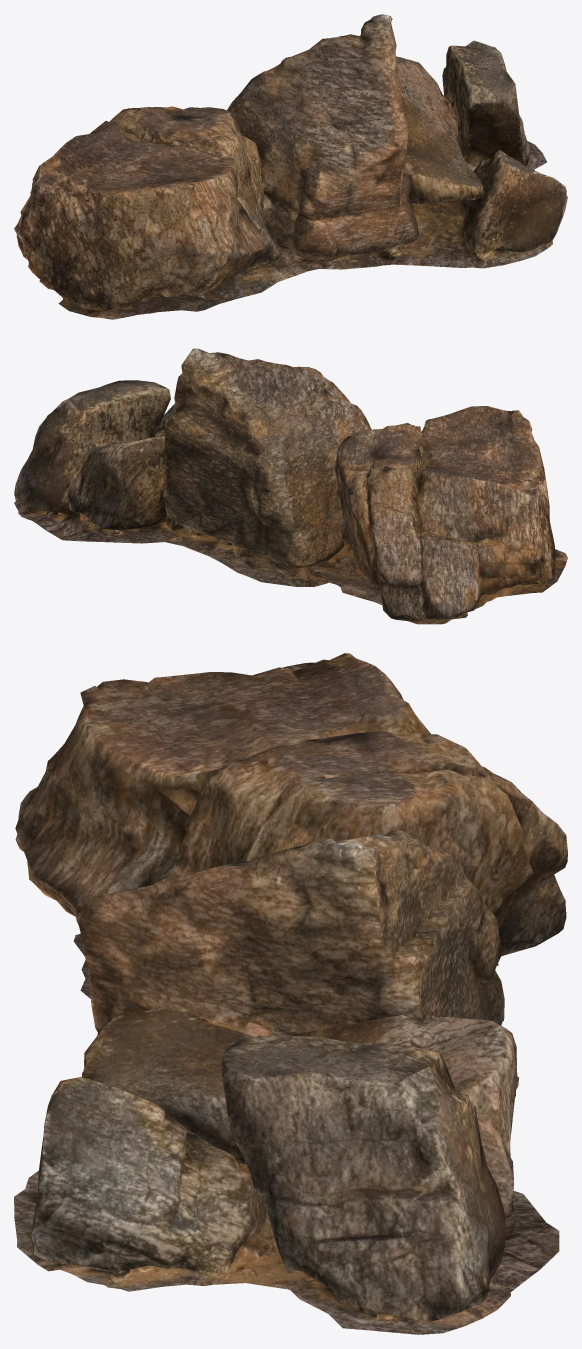
File: namaqualand_boulder_02.glb
3 views of the same model, one above another, from view 1: azimuth 30°, elevation 25°; view 2: azimuth 150°, elevation 25°; view 3: azimuth 270°, elevation 25° (orthographic). The views are drawn at different scales.
Parts seen in each view (by area): view 1: boulder_02; view 2: boulder_02; view 3: boulder_02.
Part boxes in pixels (left/top/right/bottom): boulder_02: left=14, top=14, right=567, bottom=319; boulder_02: left=14, top=348, right=567, bottom=624; boulder_02: left=14, top=653, right=567, bottom=1334.
Bounding box in the file's own units: 2.53 × 0.8805 × 1.23.
Materials: 1 (1 with a texture image).
